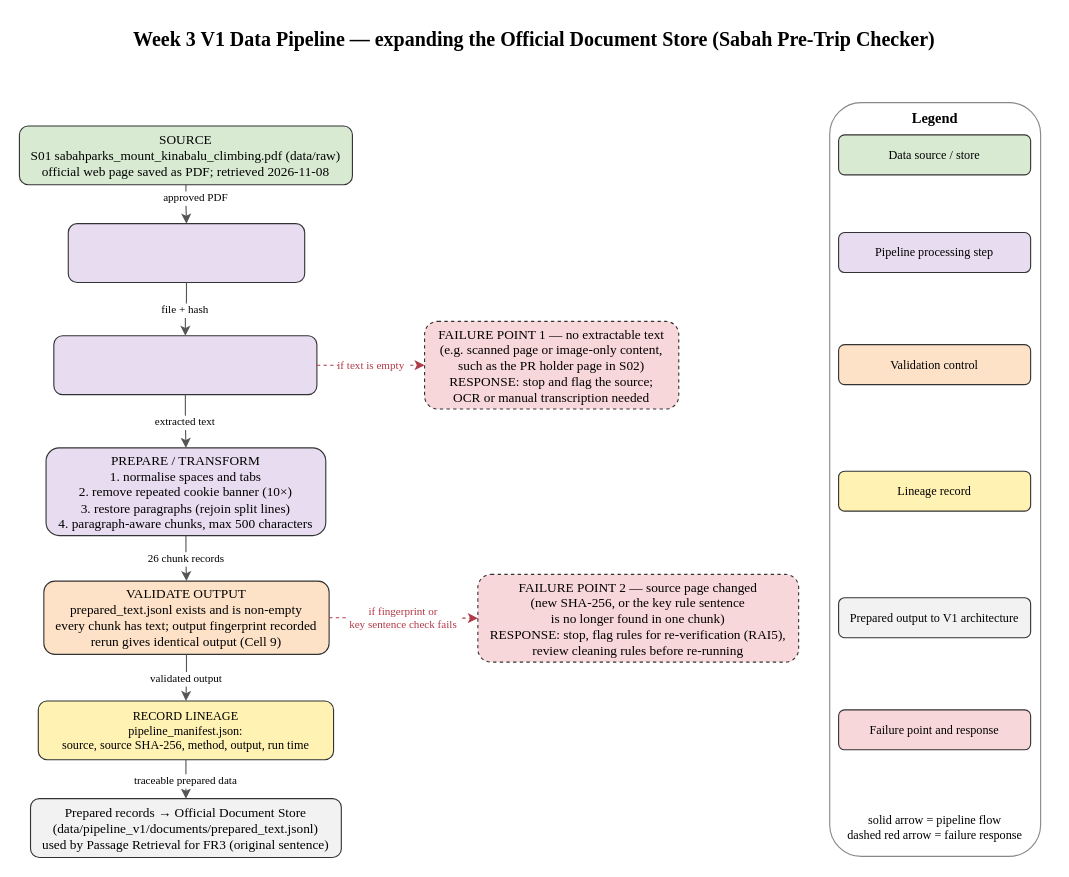
Image size: 1069x877. Some labels were removed from this diagram. Here are the shapes that lost their labels. From the top down, the centre of each, then its label:
At point 186,252: "INGEST select exact source file (resolve_source) compute SHA-256 fingerprint".
At point 185,365: "INSPECT extract text with pypdf 10 pages, 11,741 characters, no empty pages".
